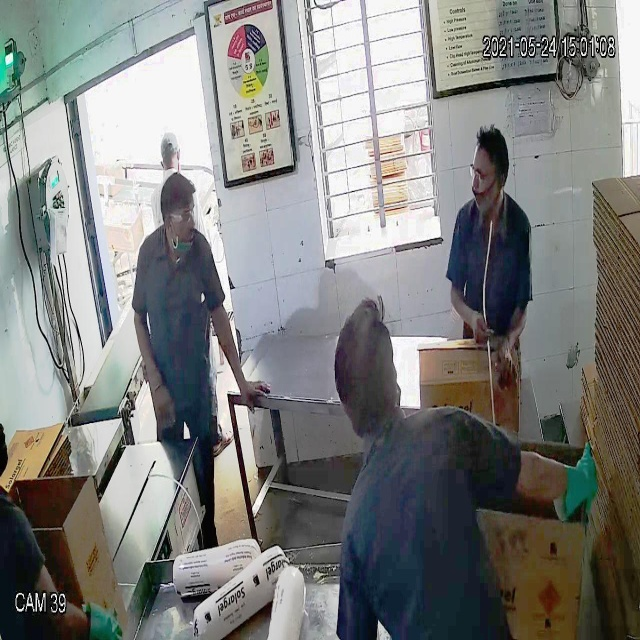Gafas: (161, 204, 198, 236), (467, 161, 504, 189)
